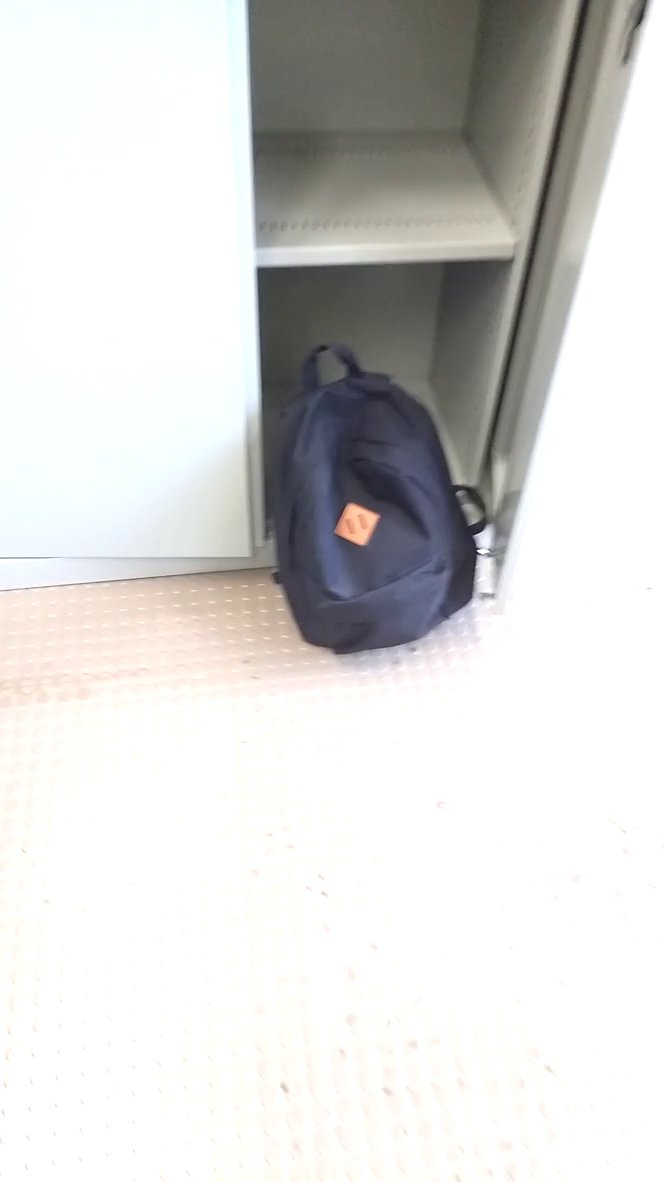bag: (258, 335, 494, 660)
